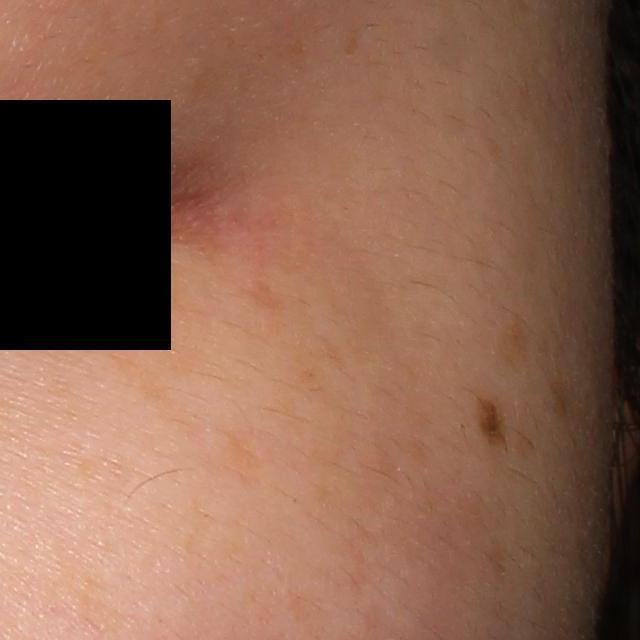melasma: (101, 339, 206, 443), (131, 283, 205, 381), (46, 557, 120, 627), (278, 331, 355, 392), (489, 307, 534, 367), (217, 423, 260, 479), (241, 274, 288, 312), (337, 26, 365, 61)
